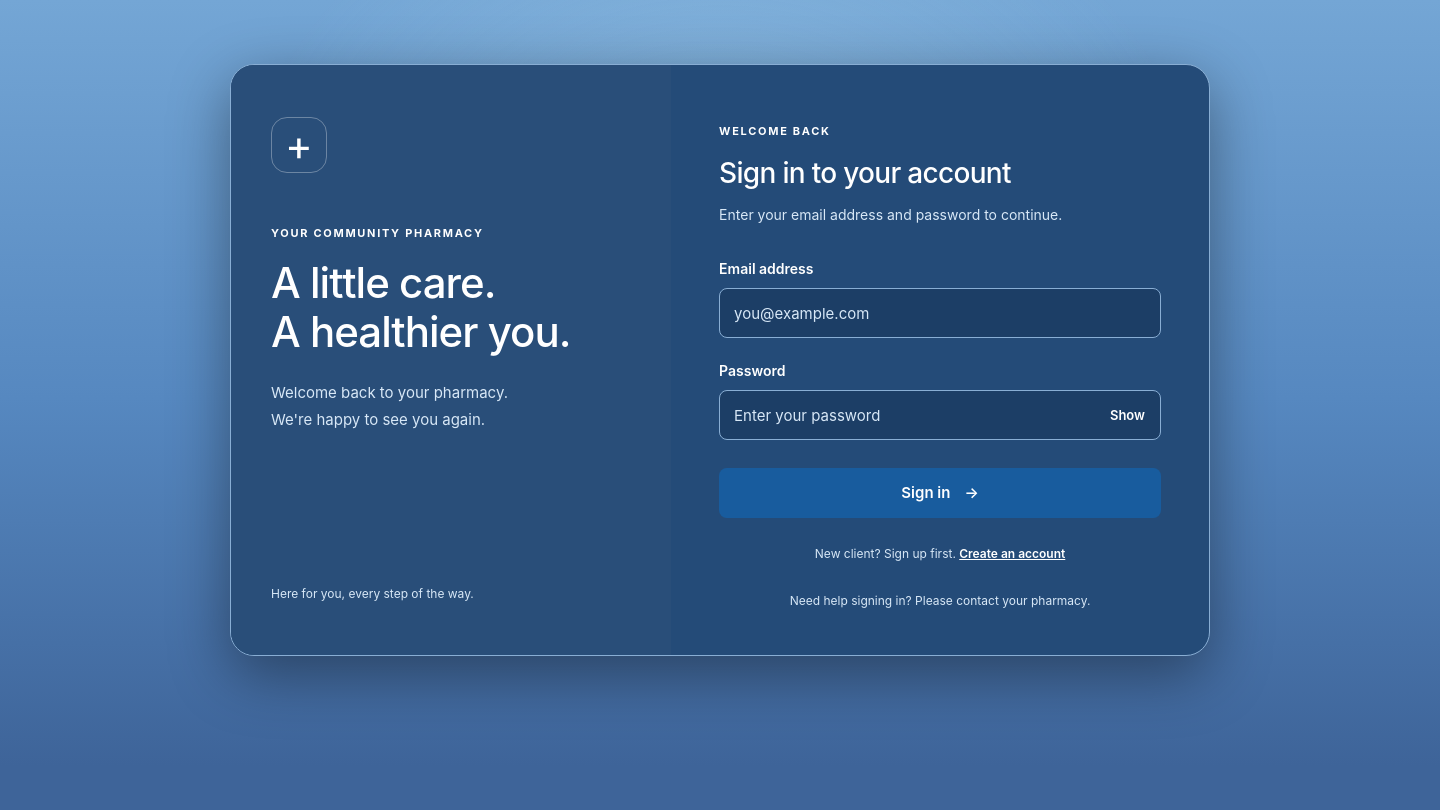
LoginComponent › shows an inline error when credentials are rejected
In the field labelled "Email address": [940, 313] box [719,288,1161,338], type "person@example.com"
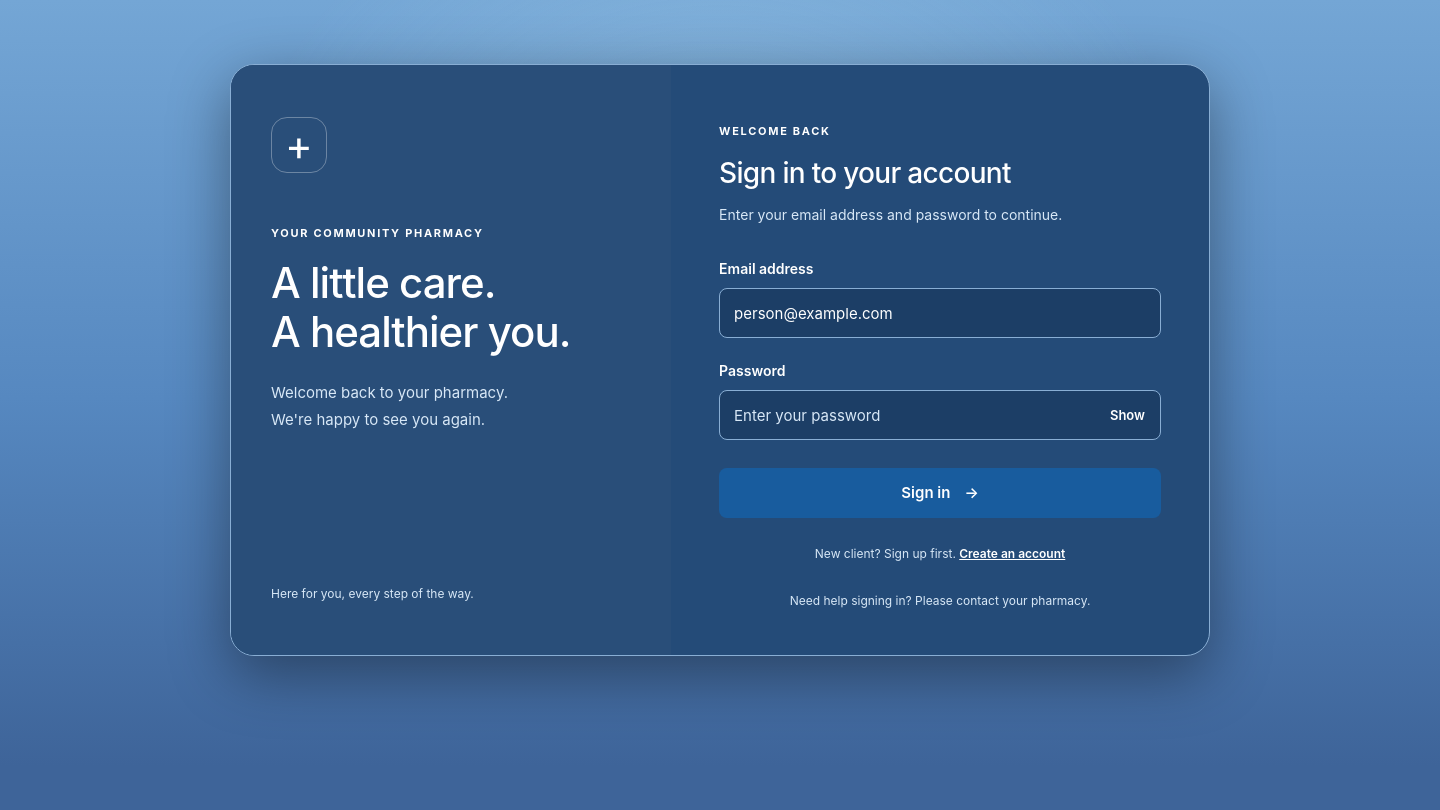
In the password field labelled "Password": [940, 415] box [719,390,1161,440], type "wrong-password"
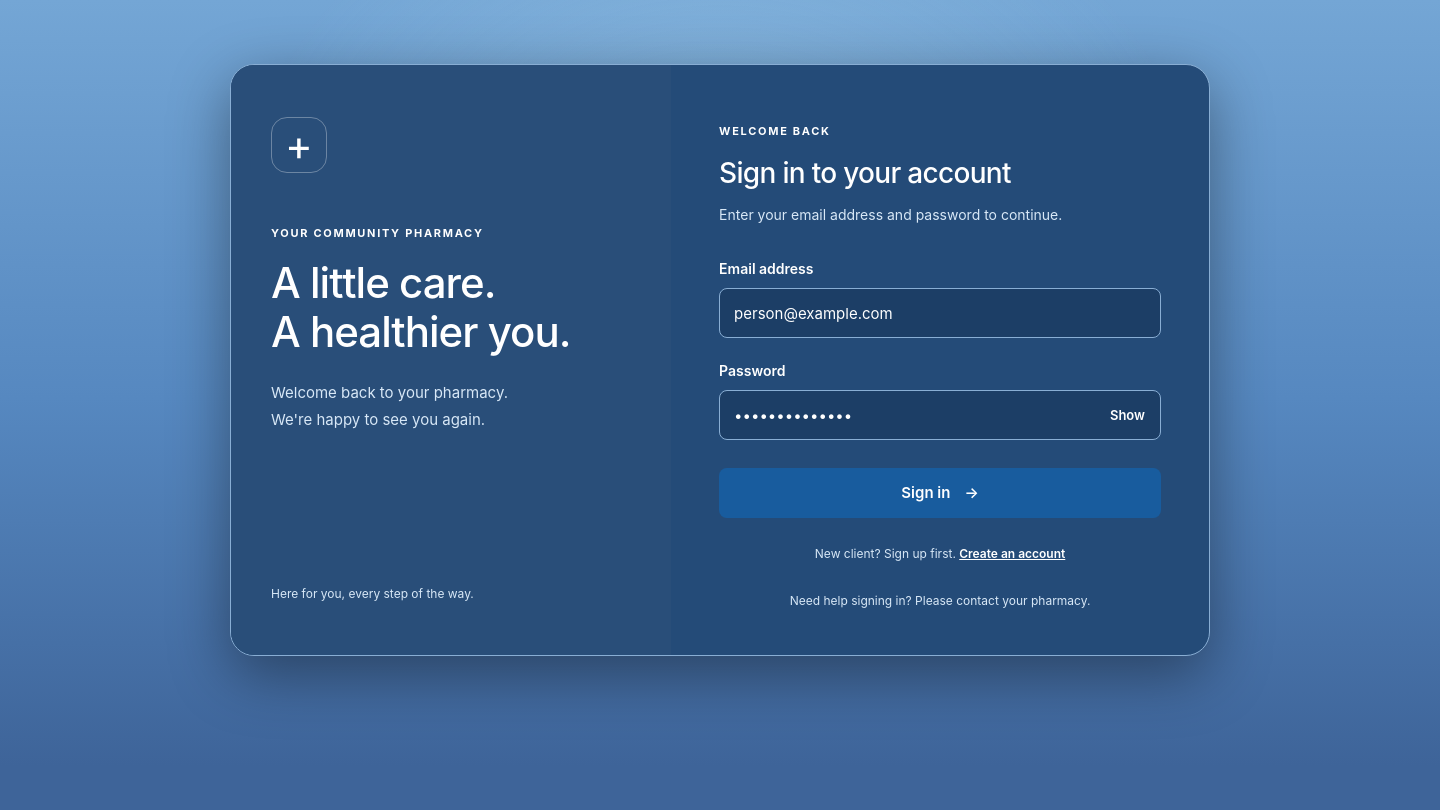
Submit the form, box [719,258,1161,518]
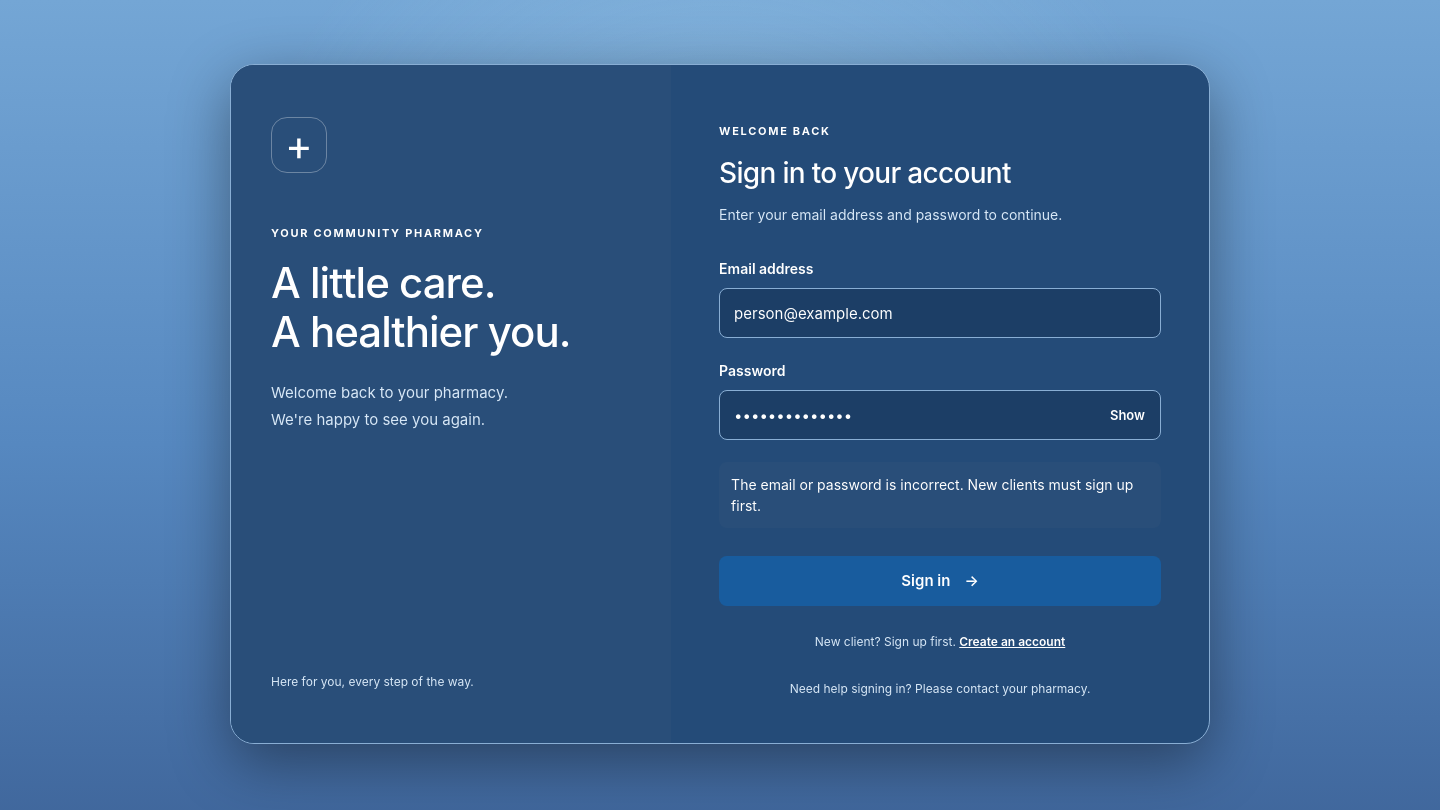
Expected: the message "The email or password is incorrect. New clients must sign up first." is shown, [719,462,1161,528]
